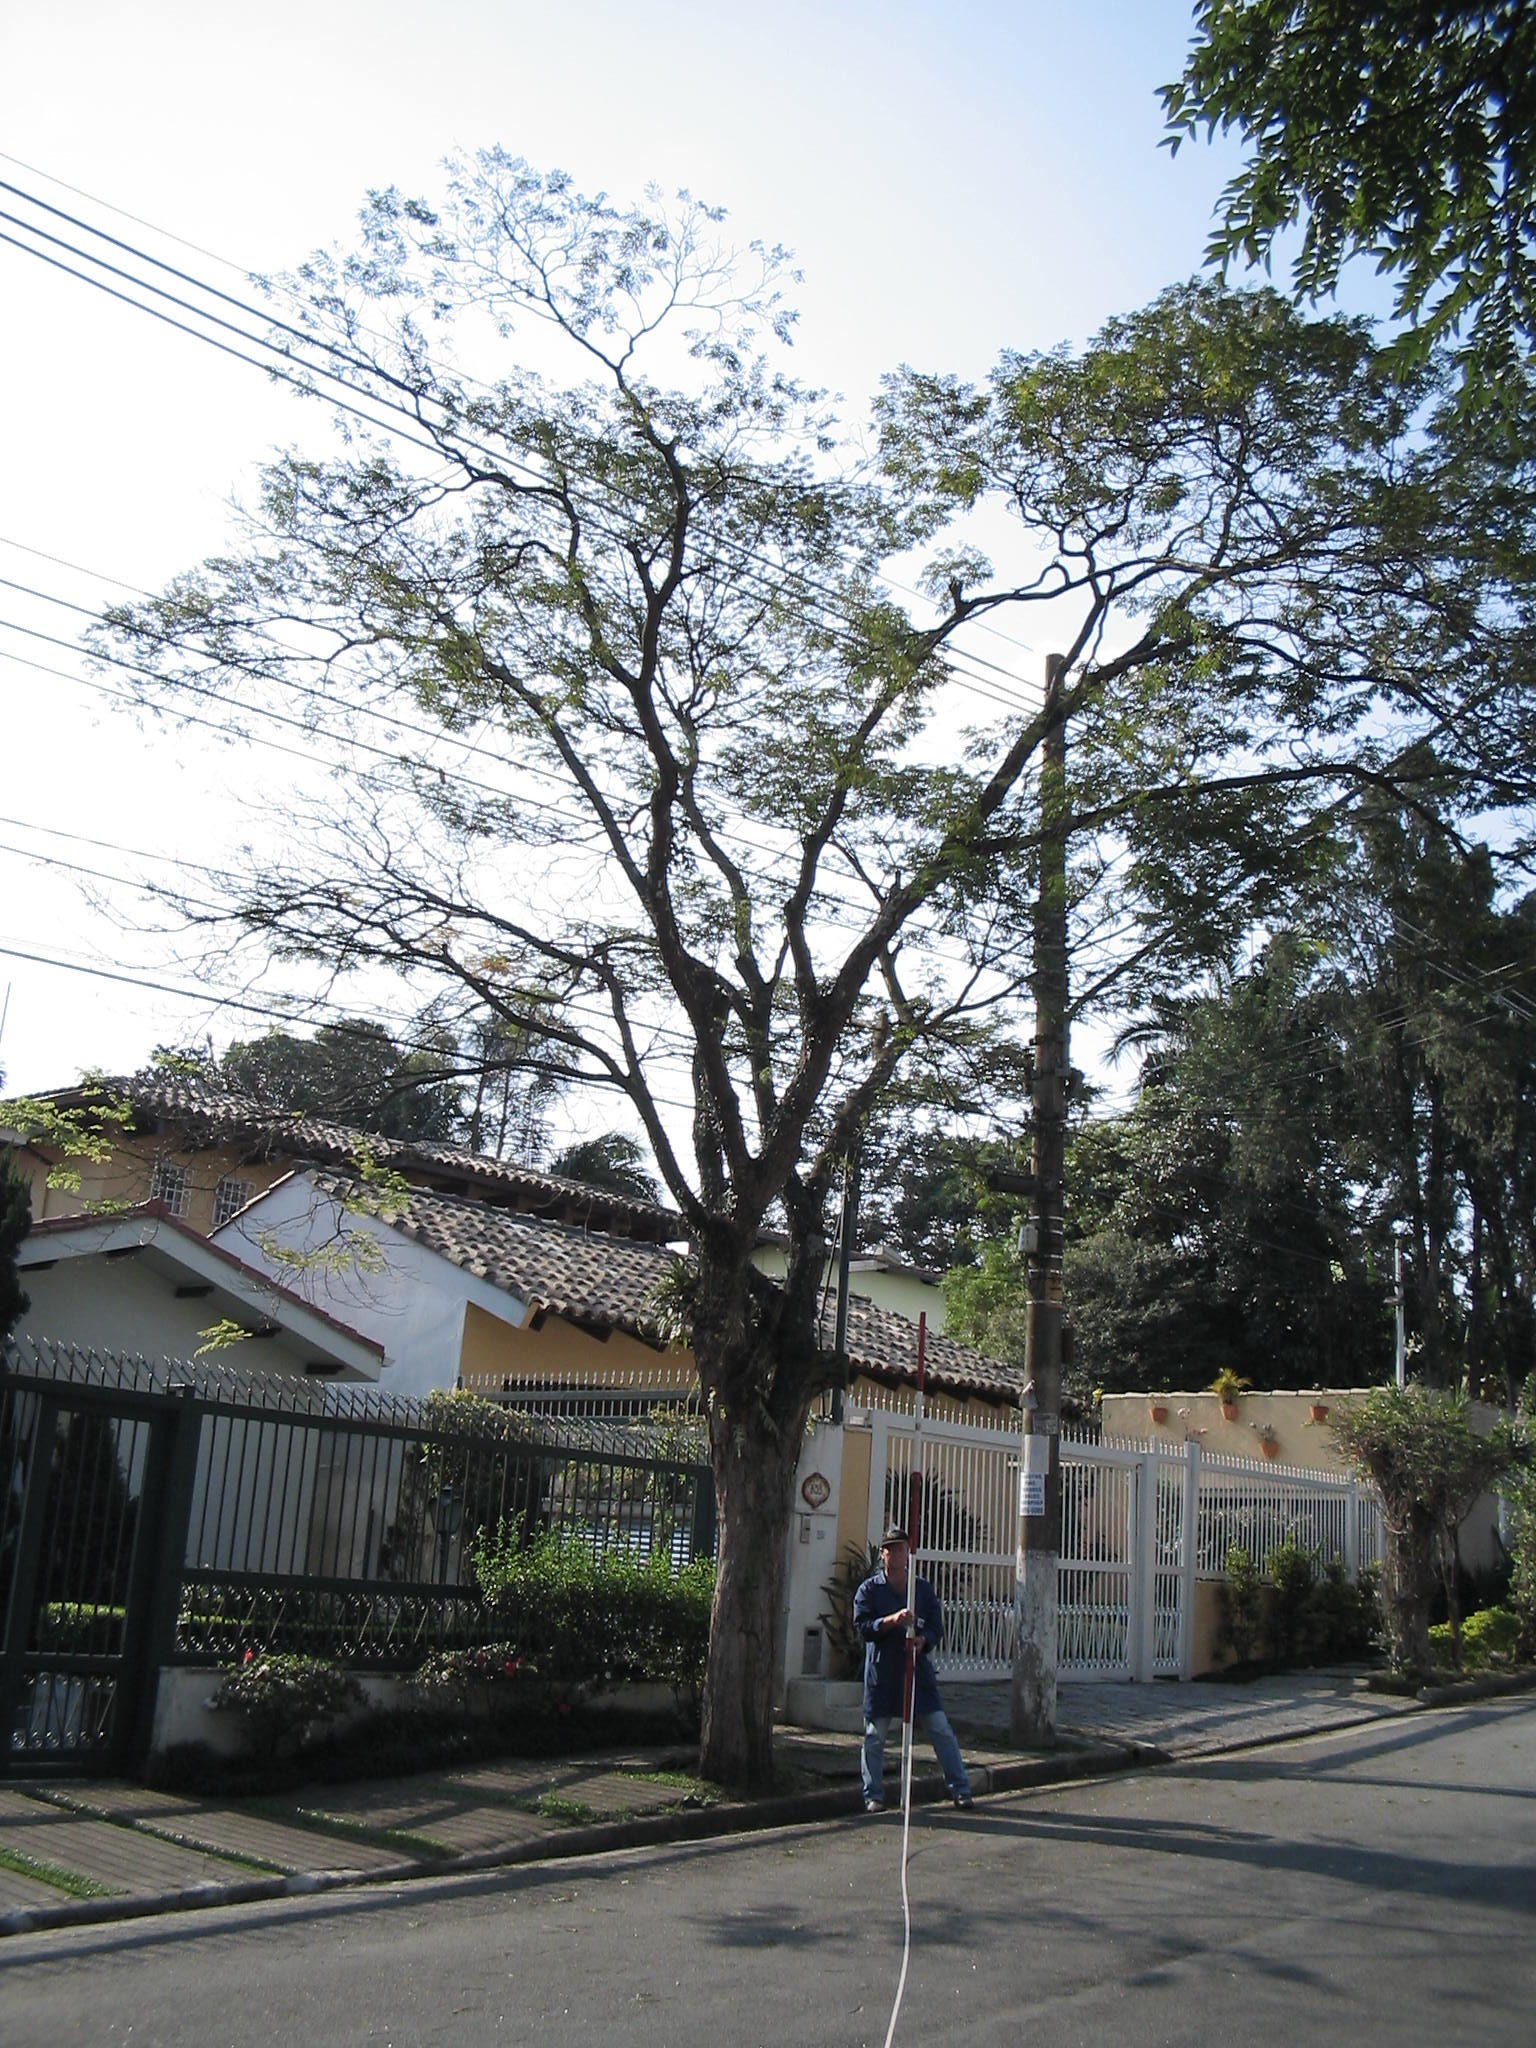crown: (97, 142, 1520, 1308)
stem: (665, 1392, 849, 1792)
stick: (871, 1311, 962, 1819)
tree: (89, 140, 1520, 1800)
